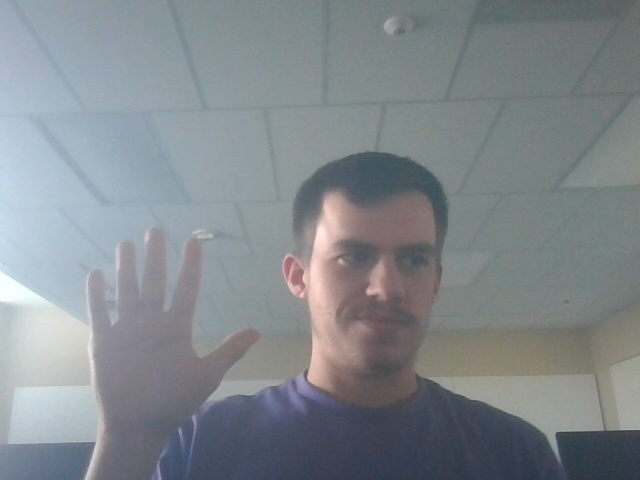hello: (79, 221, 270, 441)
